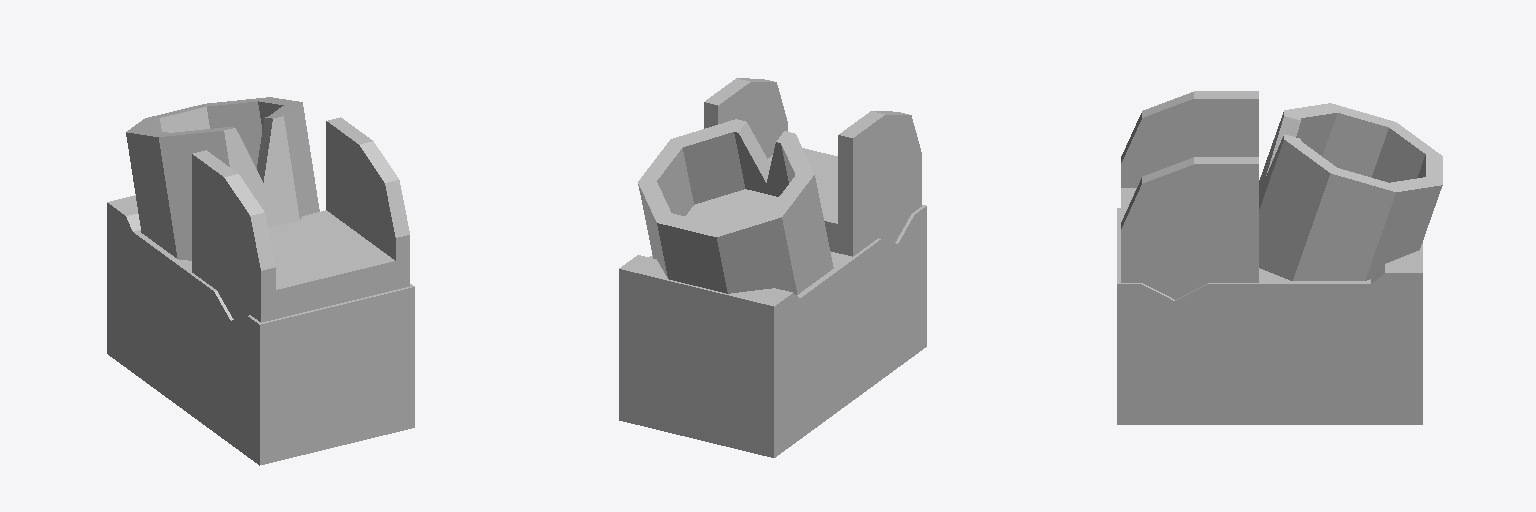
The model's file is m4_rsight.obj.
3 views of the same model, side by side, from view 1: azimuth 30°, elevation 25°; view 2: azimuth 150°, elevation 25°; view 3: azimuth 270°, elevation 25° (orthographic).
Visible parts, largest first — view 1: rsight_Cube.071; view 2: rsight_Cube.071; view 3: rsight_Cube.071.
Part boxes in pixels (x1,y1,x2,y2): rsight_Cube.071: (107, 97, 414, 465); rsight_Cube.071: (619, 78, 926, 457); rsight_Cube.071: (1117, 91, 1442, 424).
Size of the model in its own units: 0.0261 by 0.0421 by 0.0473.